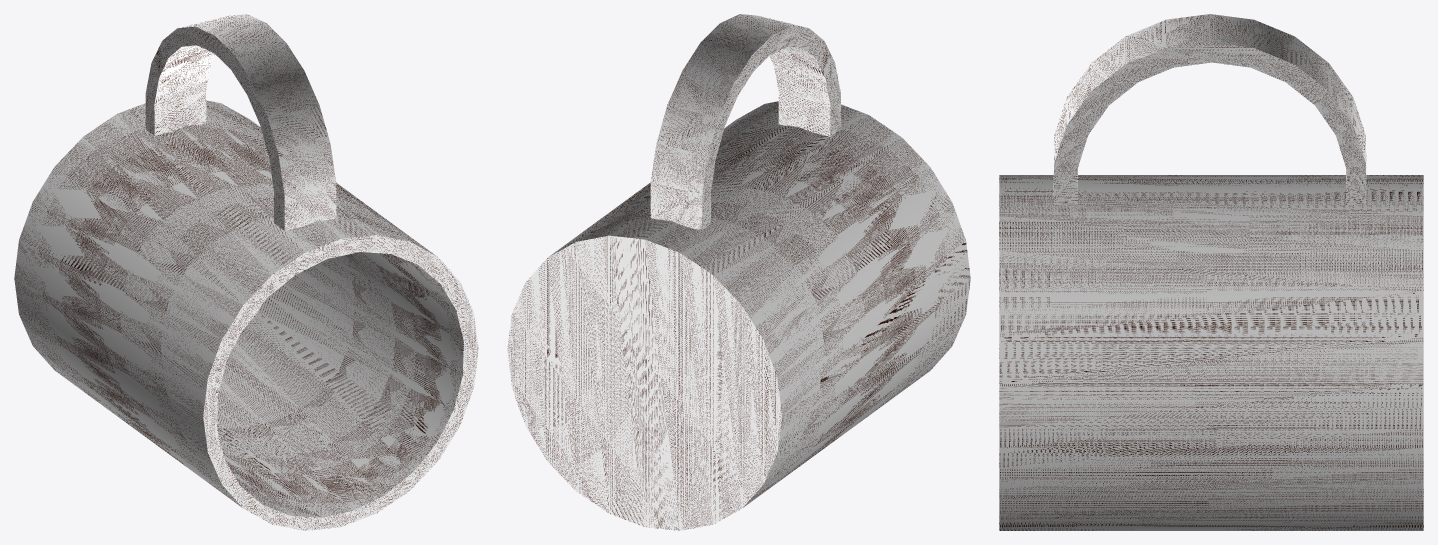
File: model_scale.obj
3 renders of one model, left to right at view 1: azimuth 30°, elevation 25°; view 2: azimuth 150°, elevation 25°; view 3: azimuth 270°, elevation 25°, orthographic. The views are drawn at different scales.
Parts seen in each view (by area): view 1: mesh1_mesh1-geometry, mesh2_mesh2-geometry; view 2: mesh1_mesh1-geometry, mesh2_mesh2-geometry; view 3: mesh1_mesh1-geometry, mesh2_mesh2-geometry.
Boxes of the visible parts, x1,y1,x2,y2 form: mesh1_mesh1-geometry: [14, 100, 478, 530]; mesh2_mesh2-geometry: [145, 14, 336, 230]; mesh1_mesh1-geometry: [507, 101, 970, 530]; mesh2_mesh2-geometry: [650, 14, 840, 230]; mesh1_mesh1-geometry: [999, 175, 1423, 530]; mesh2_mesh2-geometry: [1053, 14, 1366, 204].
Bounding box in the file's own units: 0.0754 × 0.1125 × 0.0895.
